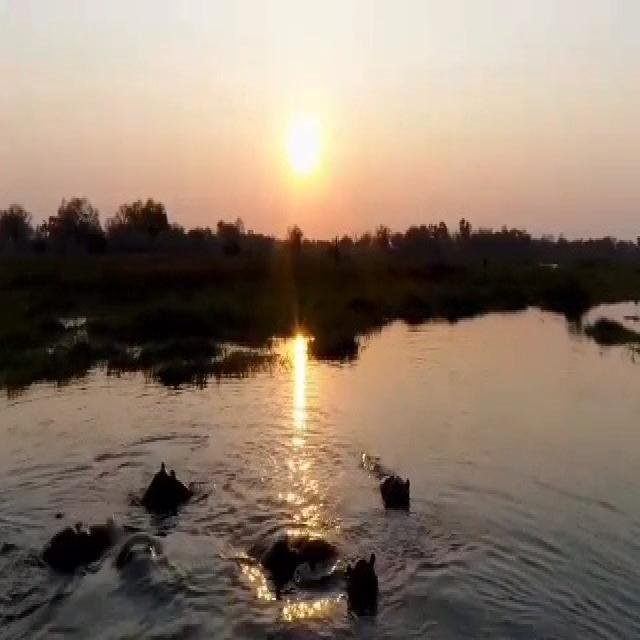Hippopotamus: (46, 463, 196, 561), (232, 528, 384, 616), (369, 454, 416, 524)
